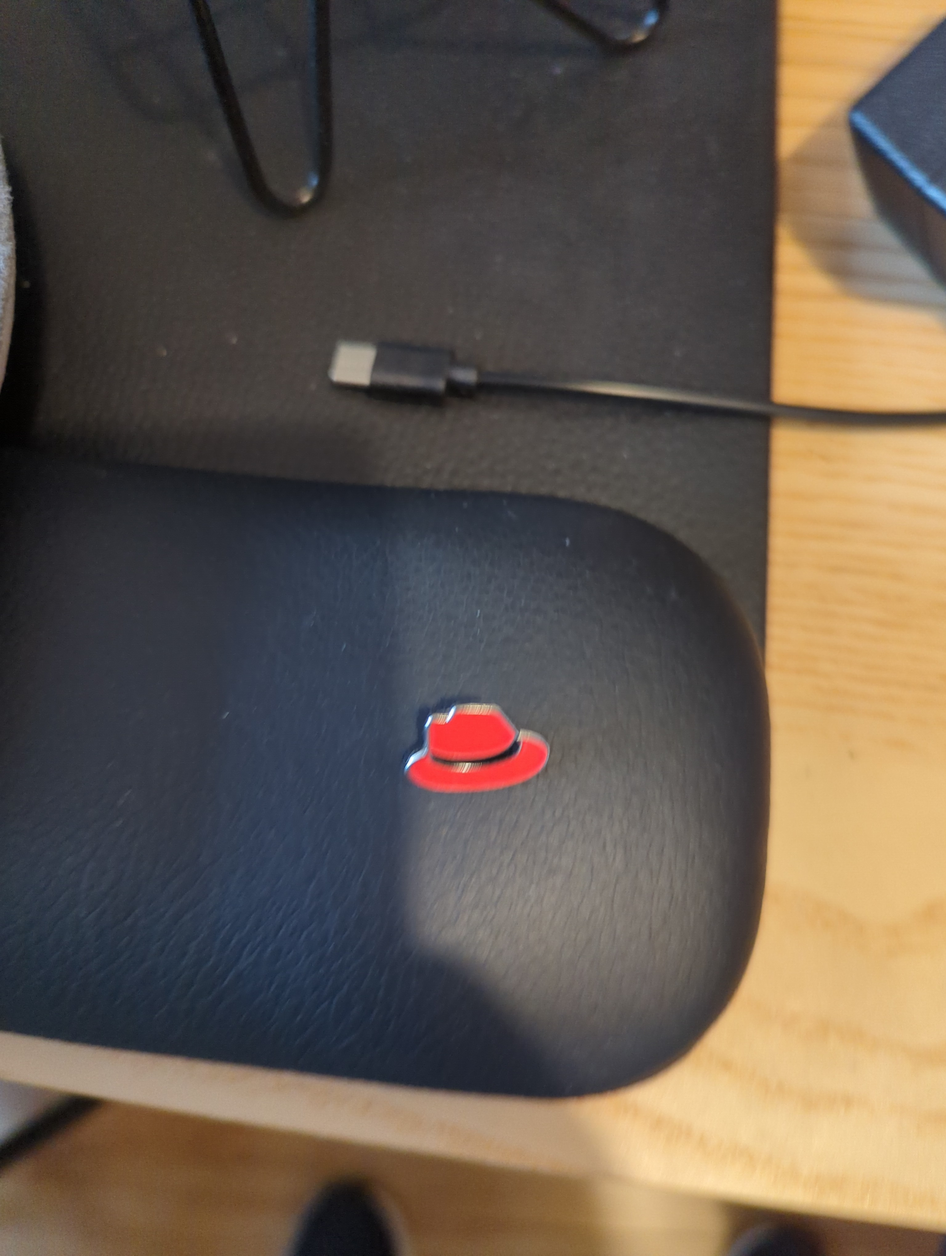Red-Hat: (353, 640, 645, 868)
